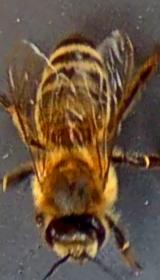varroa_mite: (36, 110, 66, 143)
